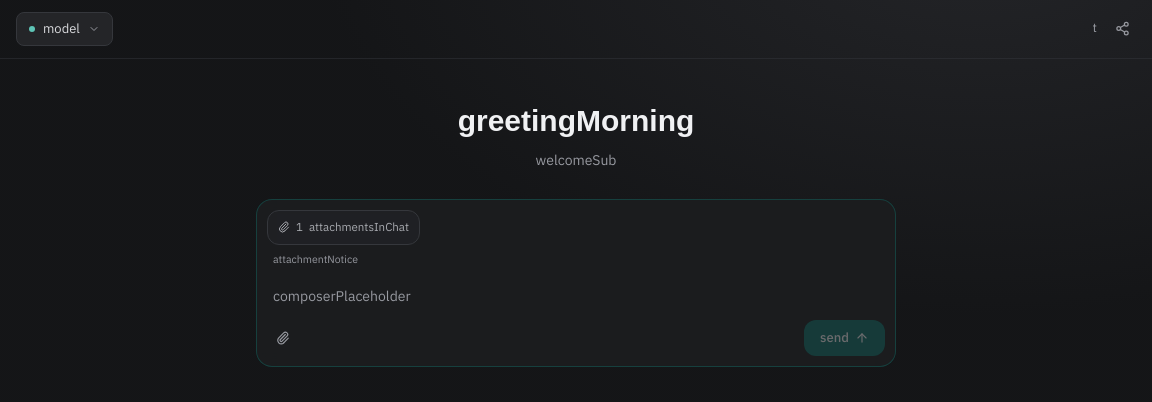
Scenario: ★ (٥) إعادة التحميل والتنقّل بين المحادثات › ★ ★ ★ بعد إعادة التحميل: ملفّات المحادثة بأحجامها، والتجهيز الجاري يُتابَع
Click the button "1 attachmentsInChat".
click(344, 227)  # box [267,210,420,245]
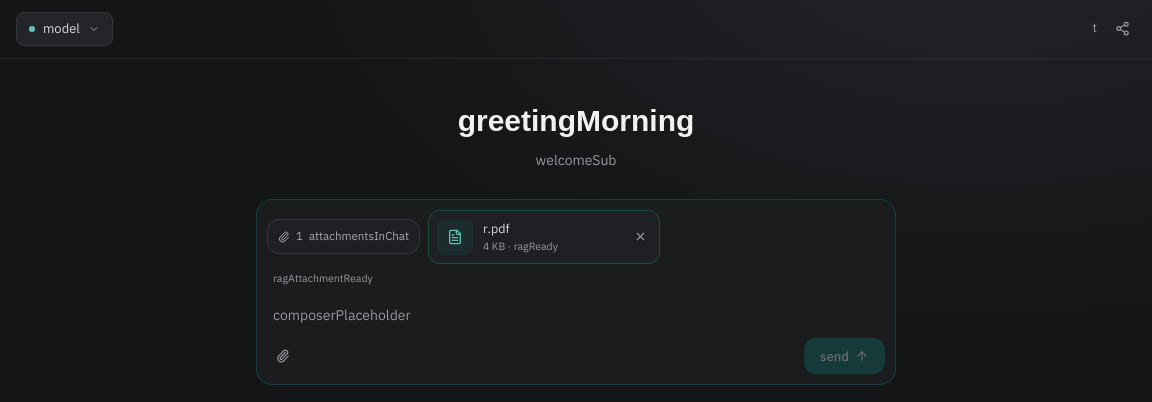
Result: the element showing "r .pdf 4 KB · ragReady" is shown at [428,210,660,264]
